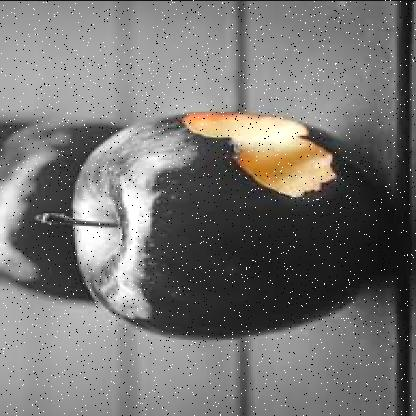damaged_apple: (69, 111, 371, 339)
